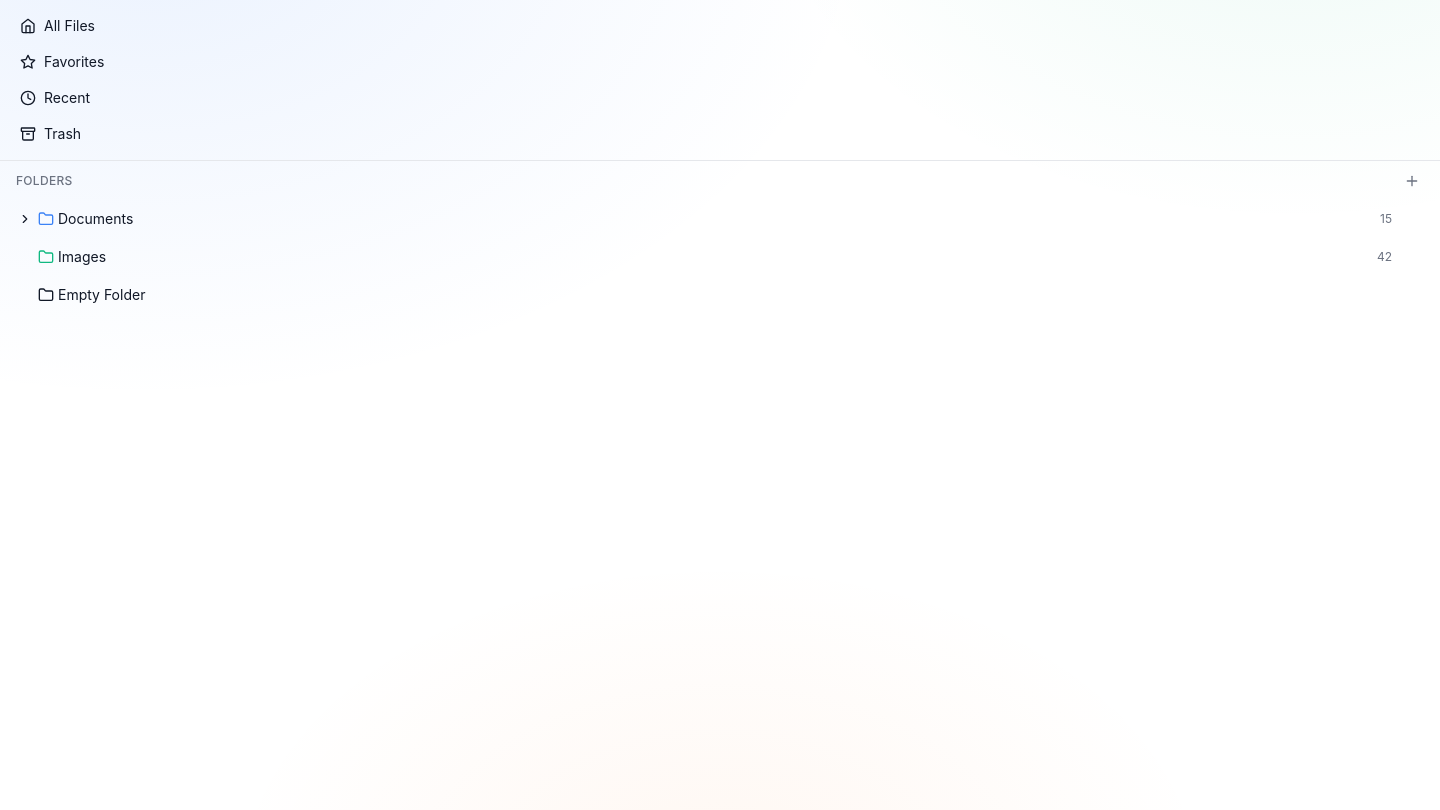
Test: FolderTree › folder expansion › expands folder when expand button is clicked
Expected: the text "Work" is not shown
# Click expand button
Click the 6th button at (25, 219), box [16,210,34,228]
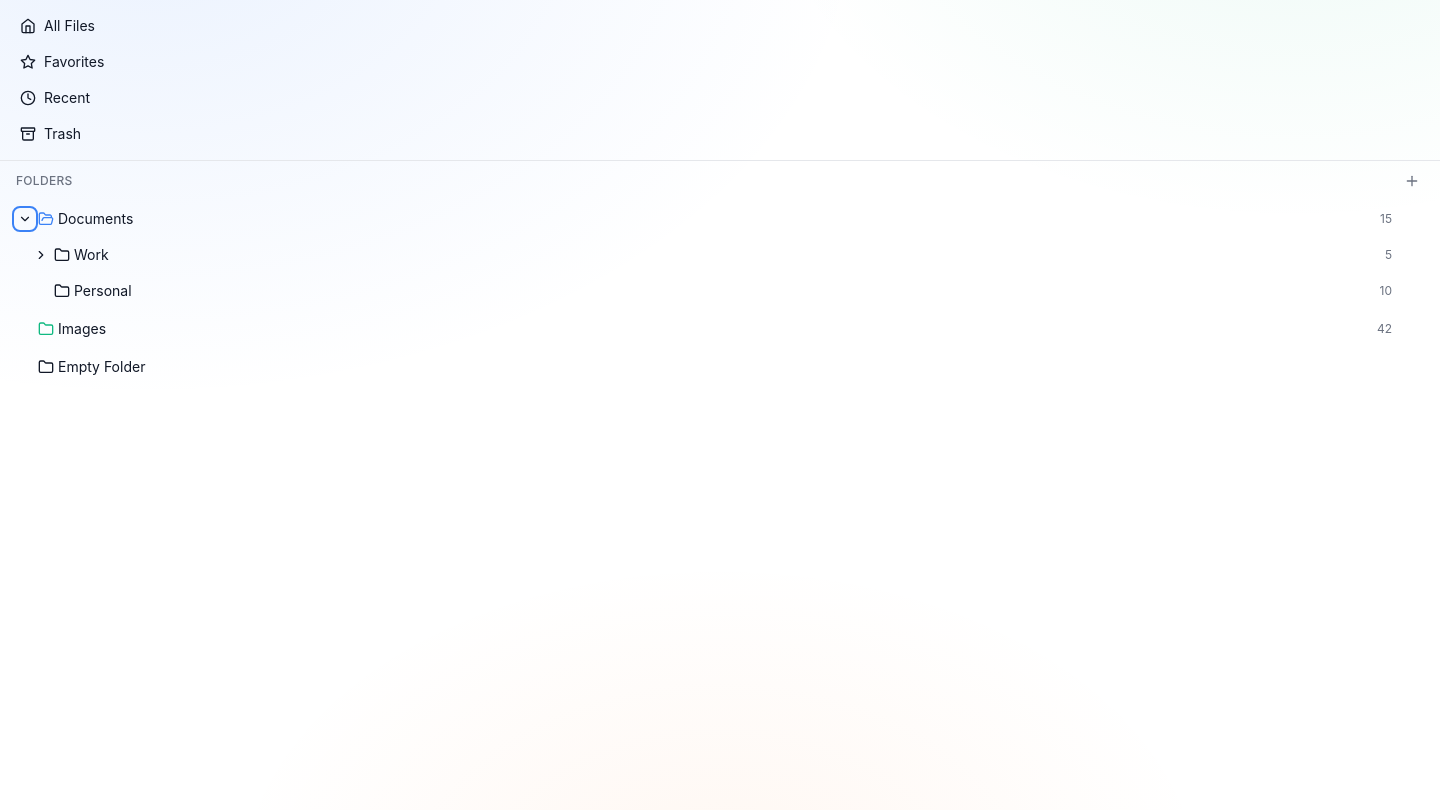
Expected: the text "Work" is shown, [74,246,109,263]
Expected: the text "Personal" is shown, [74,282,132,299]
